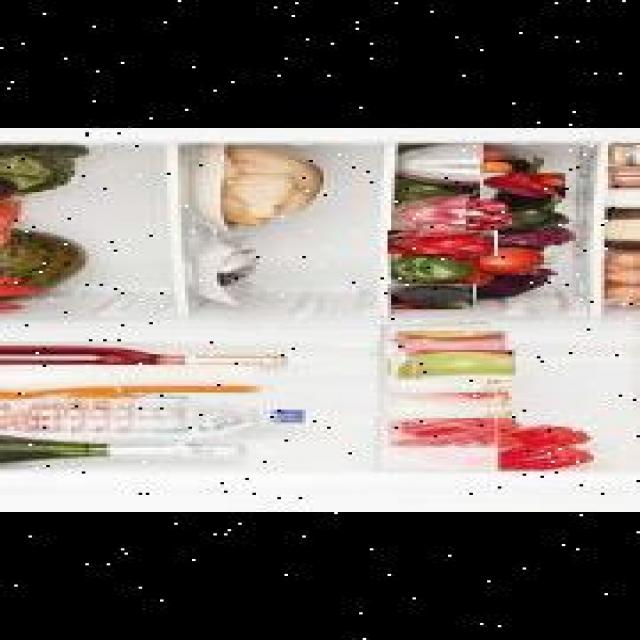apple: (388, 351, 512, 381), (384, 331, 505, 358)
banana: (0, 169, 64, 194), (0, 153, 53, 179), (0, 145, 46, 166), (0, 143, 36, 168), (0, 162, 28, 189)
bell_pepper: (384, 255, 476, 285), (384, 232, 494, 257), (476, 173, 562, 198)
cheese: (594, 204, 640, 250)
cucumber: (386, 284, 471, 309)
egg: (601, 252, 640, 269), (601, 269, 640, 286), (601, 286, 640, 301)
mango: (0, 192, 75, 235), (0, 226, 68, 265)
milk: (0, 365, 256, 392)
tomato: (452, 246, 554, 276)
yogurt: (377, 393, 519, 418), (375, 373, 514, 395), (597, 186, 640, 209), (601, 166, 640, 188), (604, 145, 640, 166)
